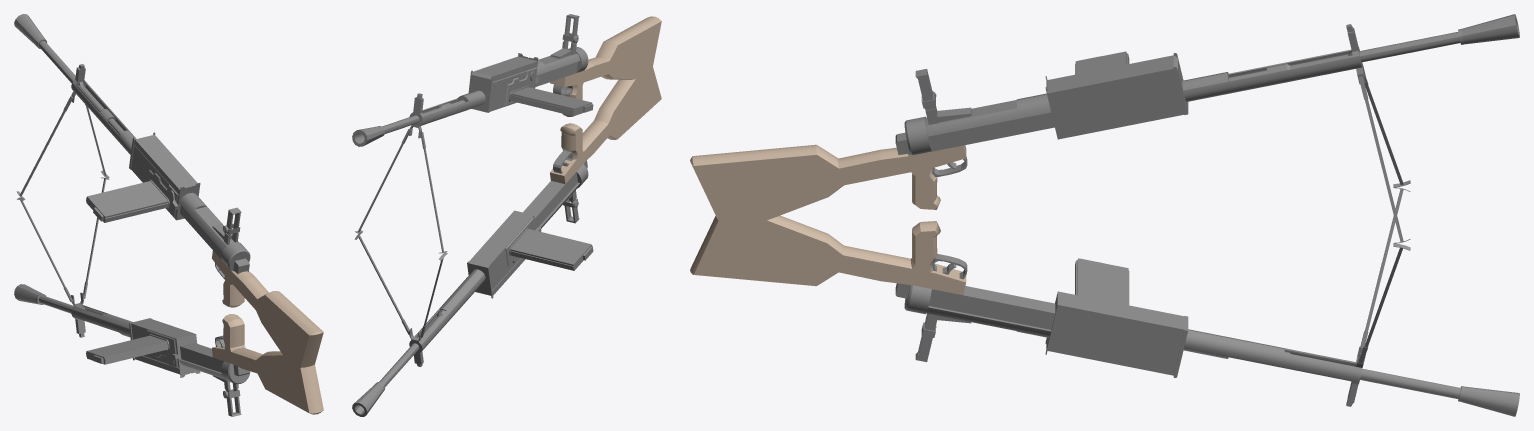
3 views of the same model, side by side, from view 1: azimuth 30°, elevation 25°; view 2: azimuth 150°, elevation 25°; view 3: azimuth 270°, elevation 25° (orthographic). The views are drawn at different scales.
Parts seen in each view (by area): view 1: group_0 (×10), group_3 (×9); view 2: group_3 (×8), group_0 (×8), group_2; view 3: group_3 (×9), group_0 (×9).
Boxes of the visible parts, <box> form: group_0 (×10): <box>14,14,323,376</box>; group_3 (×9): <box>14,284,323,416</box>; group_3 (×8): <box>352,60,661,416</box>; group_0 (×8): <box>352,14,661,146</box>; group_2: <box>423,148,443,252</box>; group_3 (×9): <box>690,205,1519,416</box>; group_0 (×9): <box>690,14,1519,234</box>.
Size of what is drawn, in the model's own units: 891 by 3805 by 2027.
